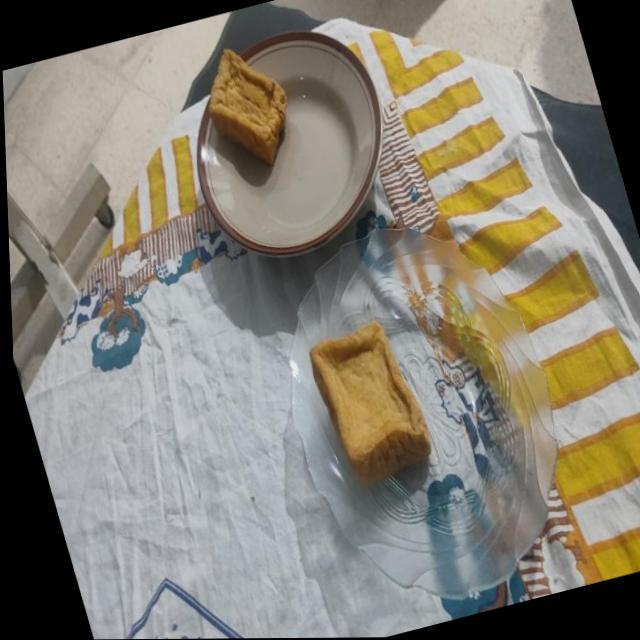tahu_goreng: (310, 320, 430, 484), (208, 49, 286, 164)
